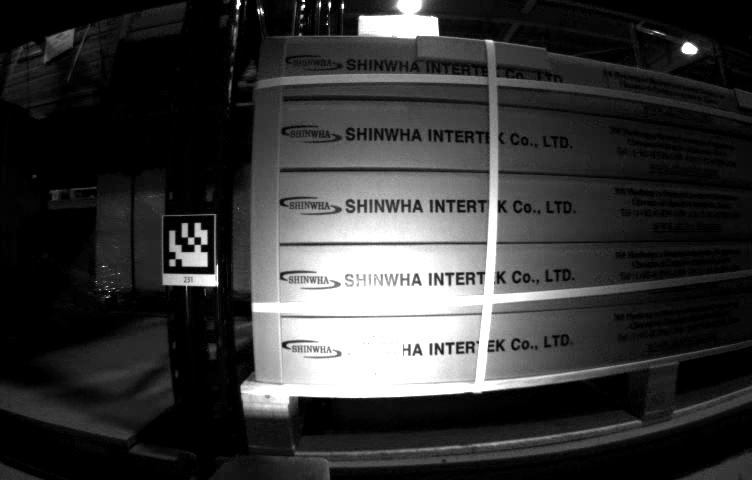True Barcode: (349, 331, 398, 377)
